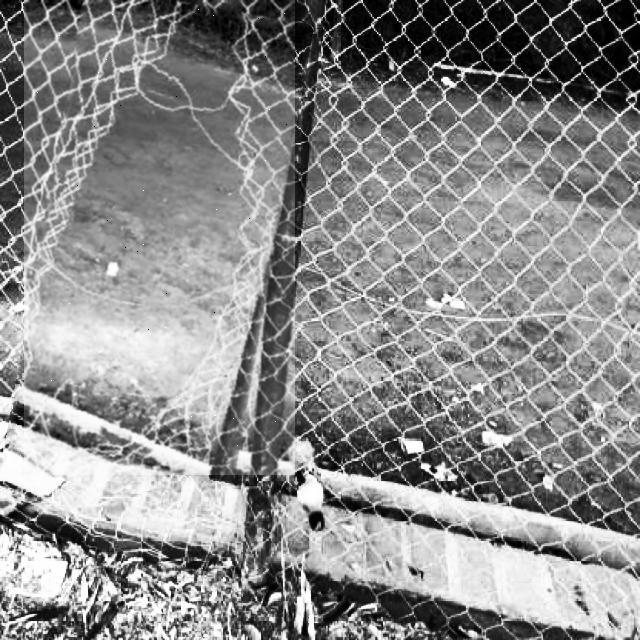anomaly-fence: (24, 0, 295, 475)
